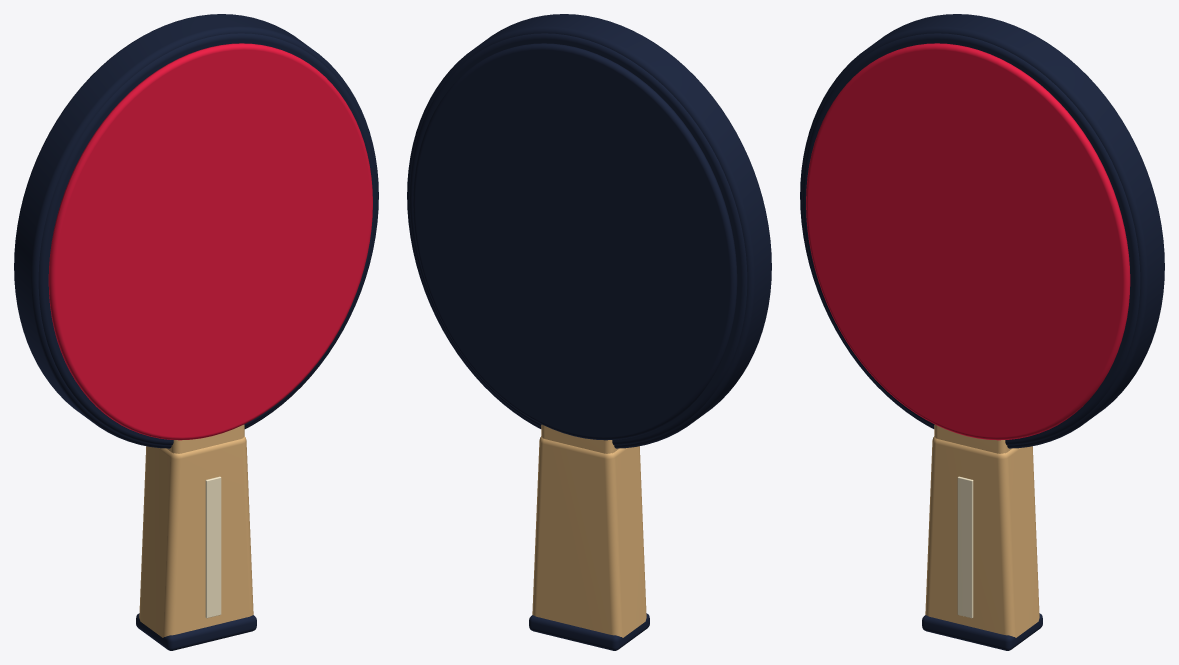
File: Classic.glb
3 views of the same model, side by side, from view 1: azimuth 30°, elevation 25°; view 2: azimuth 150°, elevation 25°; view 3: azimuth 330°, elevation 25° (orthographic).
Parts seen in each view (by area): view 1: FrontRubber, WoodHandle, OuterRim, RimLip, HandleInlay, HandleButt, Neck; view 2: BackRubber, WoodHandle, OuterRim, RimLip, HandleButt, Neck; view 3: FrontRubber, WoodHandle, OuterRim, RimLip, HandleInlay, HandleButt, Neck.
Boxes of the visible parts, <box> form: FrontRubber: <box>48,43,372,440</box>; WoodHandle: <box>139,436,253,637</box>; OuterRim: <box>14,14,378,448</box>; RimLip: <box>38,33,376,445</box>; HandleInlay: <box>205,476,221,618</box>; HandleButt: <box>136,613,256,650</box>; Neck: <box>166,424,244,453</box>; BackRubber: <box>413,43,737,440</box>; WoodHandle: <box>532,436,646,637</box>; OuterRim: <box>407,14,771,448</box>; RimLip: <box>409,33,747,445</box>; HandleButt: <box>529,613,649,650</box>; Neck: <box>541,424,619,453</box>; FrontRubber: <box>806,43,1130,440</box>; WoodHandle: <box>925,436,1039,637</box>; OuterRim: <box>800,14,1164,448</box>; RimLip: <box>802,33,1140,445</box>; HandleInlay: <box>957,476,973,618</box>; HandleButt: <box>922,613,1042,650</box>; Neck: <box>934,424,1012,453</box>.
Size of the model in its own units: 0.58 by 0.9665 by 0.102.
